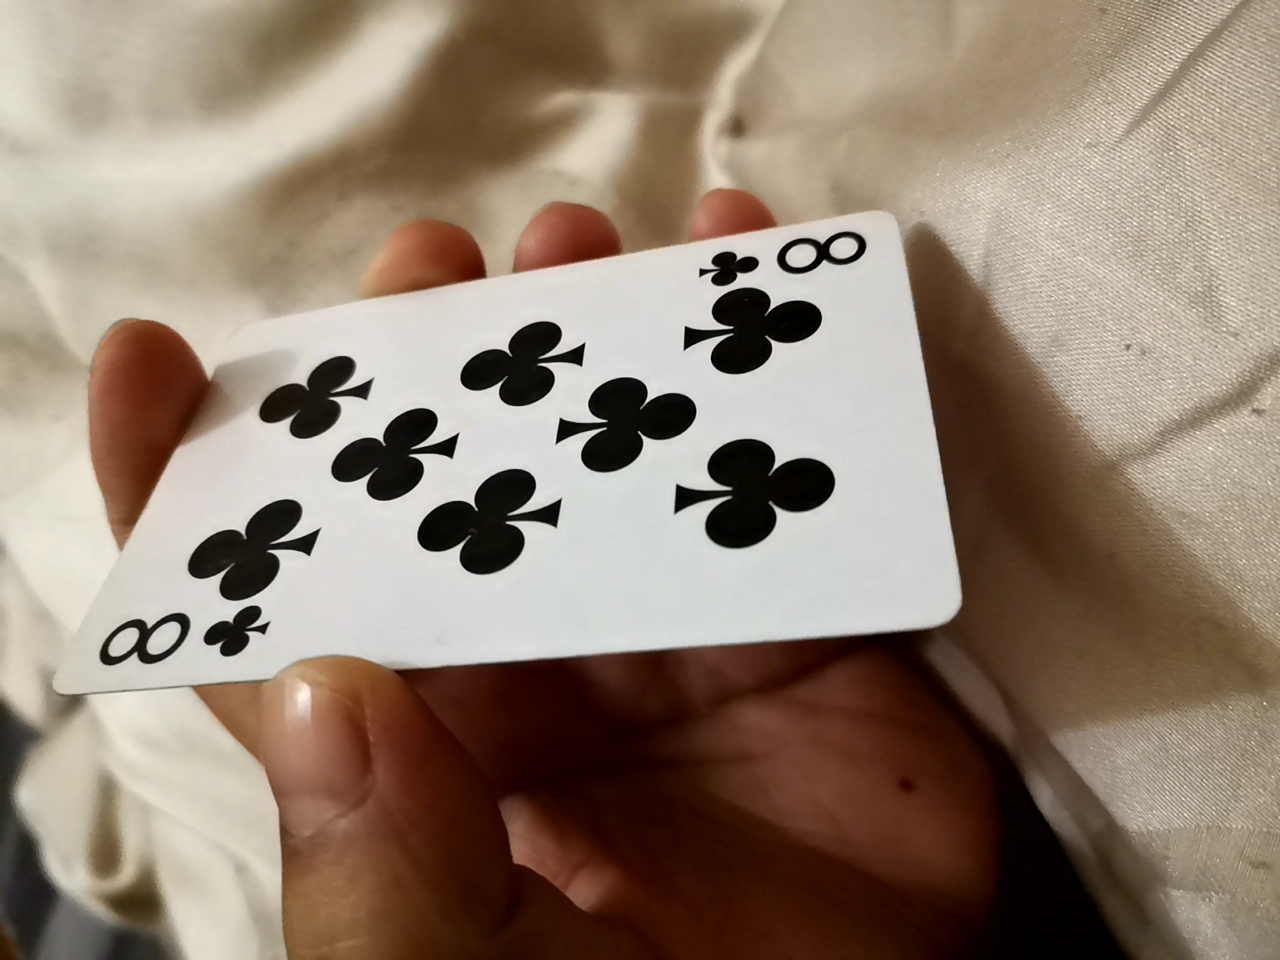mh 8: (53, 220, 963, 691)
